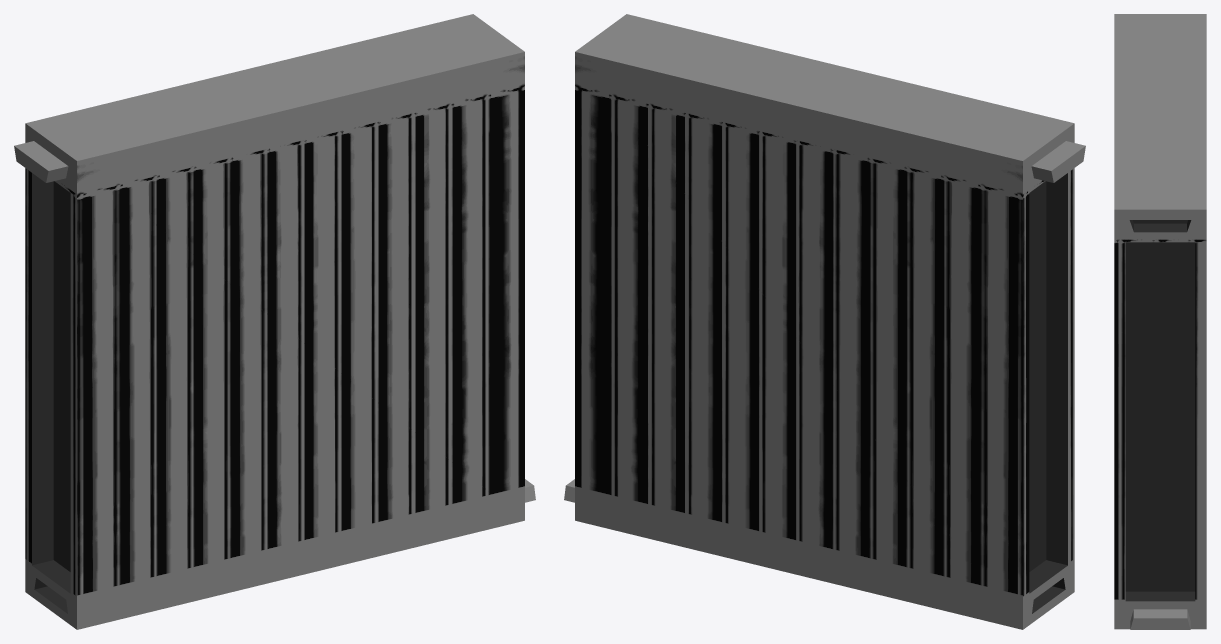
Rendered from GAMEJAMHERO - Shutter Door.fbx.
3 renders of one model, left to right at view 1: azimuth 30°, elevation 25°; view 2: azimuth 150°, elevation 25°; view 3: azimuth 270°, elevation 25°, orthographic. The views are drawn at different scales.
Visible parts, largest first — view 1: Wall(Outside Wrap).004; view 2: Wall(Outside Wrap).004; view 3: Wall(Outside Wrap).004.
Part boxes in pixels (x1,y1,x2,y2): Wall(Outside Wrap).004: (14,14,535,629); Wall(Outside Wrap).004: (564,14,1085,629); Wall(Outside Wrap).004: (1114,14,1206,629).
Size of the model in its own units: 490 by 450 by 90.
Materials: 1 (1 with a texture image).
